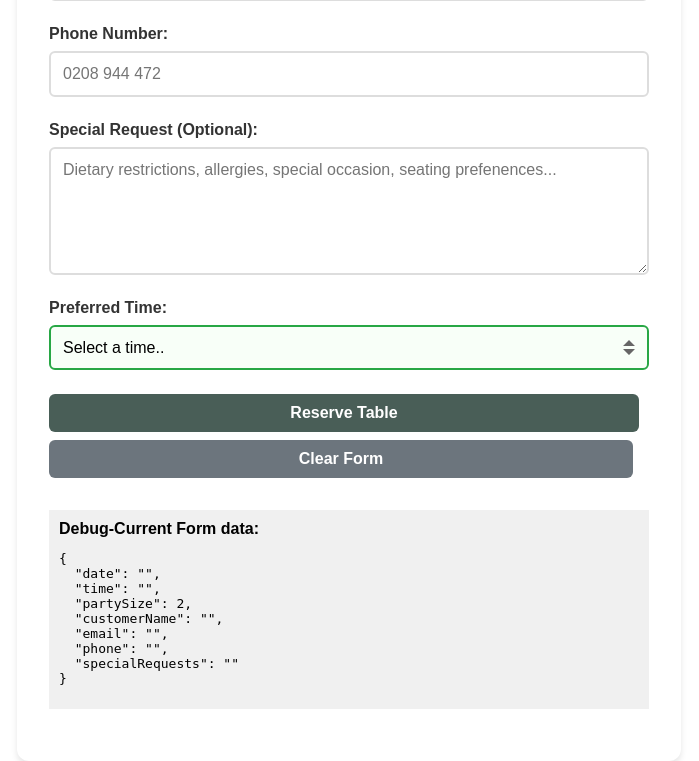
Test: BookingForm › shows validation errors for empty required fields
(page scrolled)
Click the button "Reserve Table". click: (344, 412)
box: [49,394,639,432]
(page scrolled)
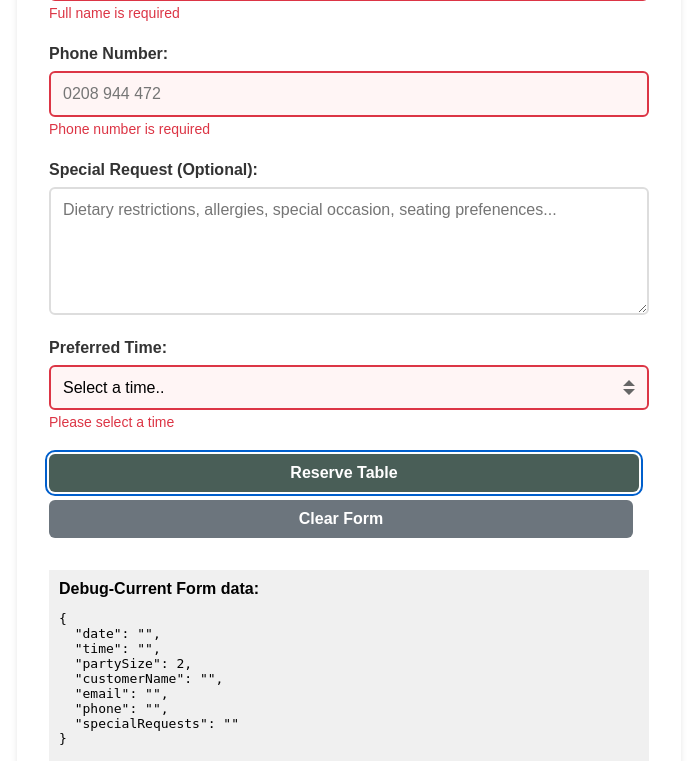
Expected: the text "Please select a time" is shown, [49,414,174,430]
Expected: the text "Full name is required" is shown, [49,4,180,20]
Expected: the text "Phone number is required" is shown, [49,120,210,136]
